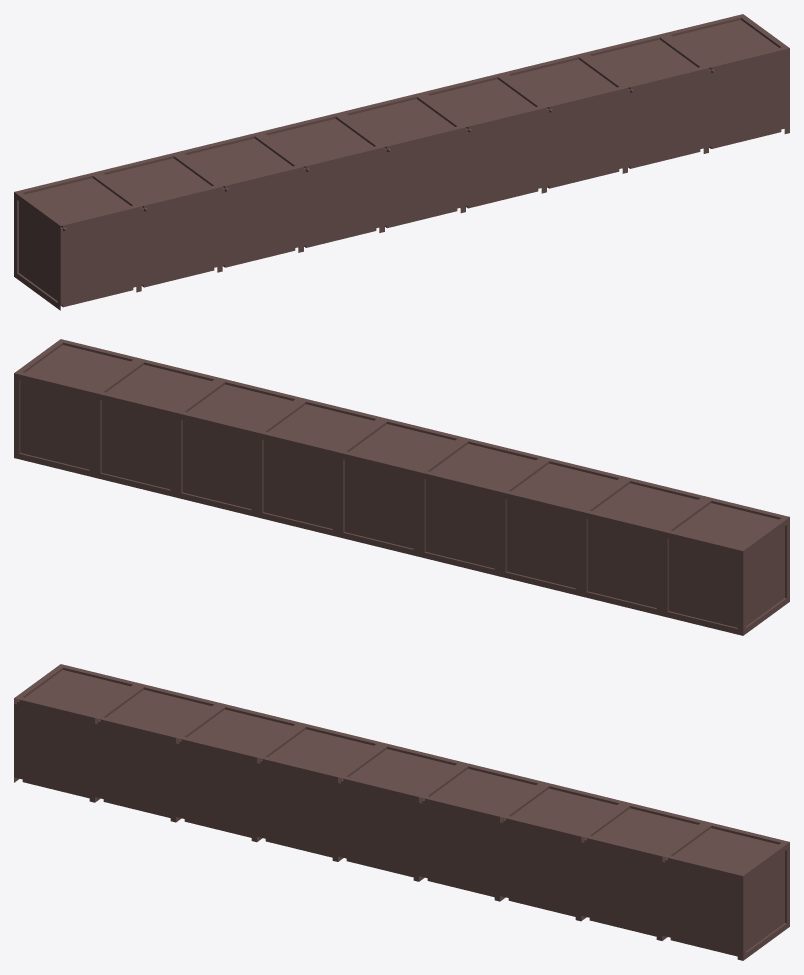
File: Factory_Vents_North_1.fbx
3 views of the same model, one above another, from view 1: azimuth 30°, elevation 25°; view 2: azimuth 150°, elevation 25°; view 3: azimuth 330°, elevation 25° (orthographic).
Visible parts, largest first — view 1: Platform.010; view 2: Platform.010; view 3: Platform.010.
Part boxes in pixels (box(x1,y1,x2,y2)): Platform.010: box(14, 14, 789, 310); Platform.010: box(14, 339, 789, 635); Platform.010: box(14, 664, 789, 960).
Size of the model in its own units: 2700 by 300 by 300.
